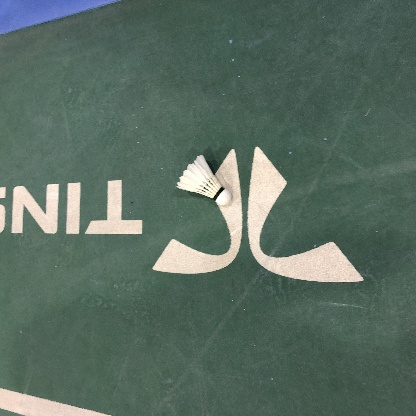ball_single: (176, 155, 231, 205)
